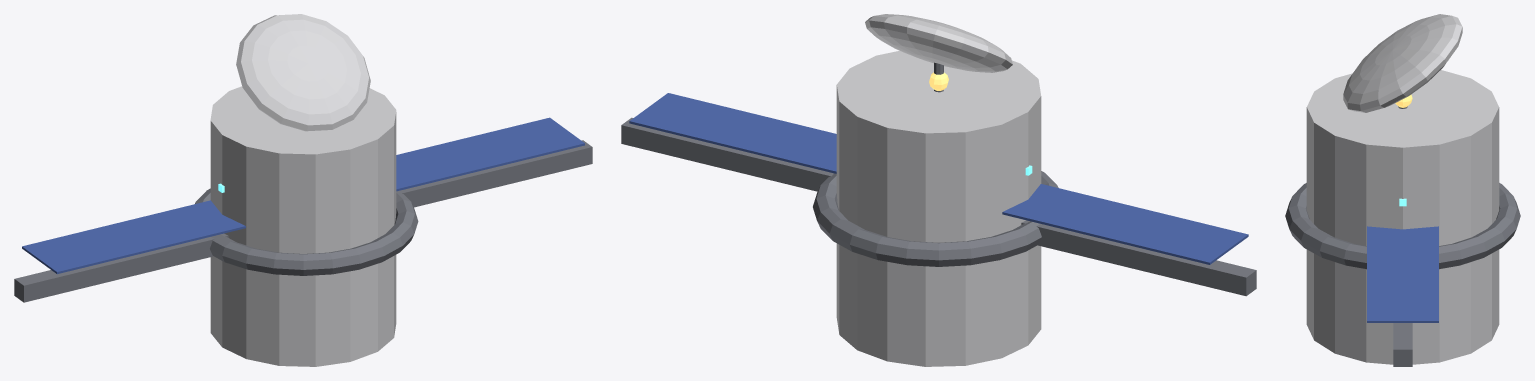
The model's file is survey_station.glb.
The picture shows the model from 3 angles, left to right: view 1: azimuth 30°, elevation 25°; view 2: azimuth 150°, elevation 25°; view 3: azimuth 270°, elevation 25°; orthographic projection. The views are drawn at different scales.
Parts seen in each view (by area): view 1: Merged_SurveyHull, Merged_SurveyDark, Merged_SolarCell; view 2: Merged_SurveyHull, Merged_SurveyDark, Merged_SolarCell; view 3: Merged_SurveyHull, Merged_SolarCell, Merged_SurveyDark.
Part boxes in pixels (box(x1,y1,x2,y2)): Merged_SurveyHull: box(210, 14, 396, 366); Merged_SurveyDark: box(14, 140, 592, 302); Merged_SolarCell: box(22, 117, 584, 274); Merged_SurveyHull: box(836, 14, 1041, 366); Merged_SurveyDark: box(621, 62, 1256, 296); Merged_SolarCell: box(629, 93, 1248, 264); Merged_SurveyHull: box(1306, 14, 1499, 364); Merged_SolarCell: box(1367, 226, 1438, 322); Merged_SurveyDark: box(1285, 106, 1520, 366).
Bounding box in the file's own units: 28 × 13.8 × 9.8.
